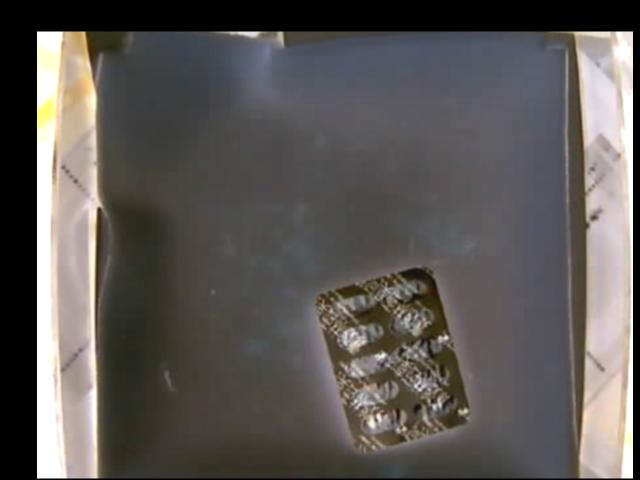Medicine: (317, 267, 474, 454)
